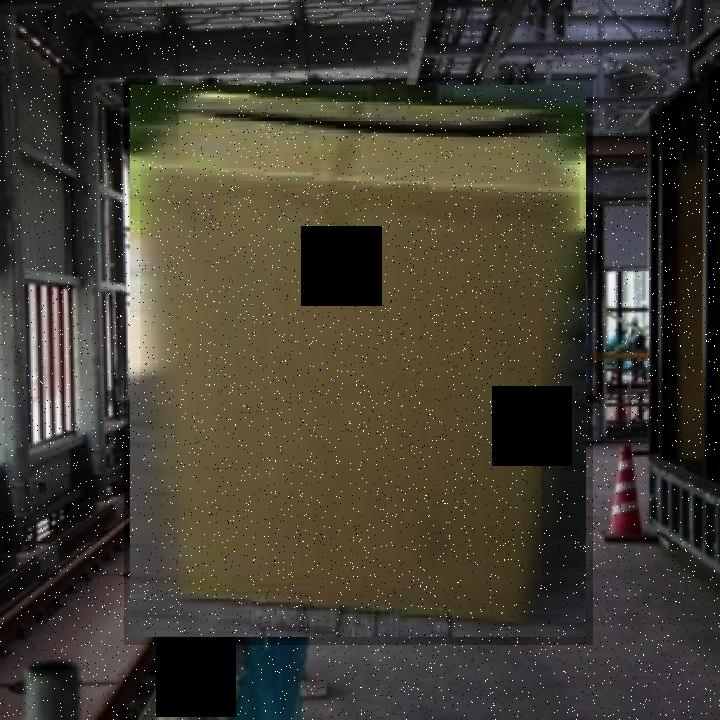box: (124, 78, 593, 645)
